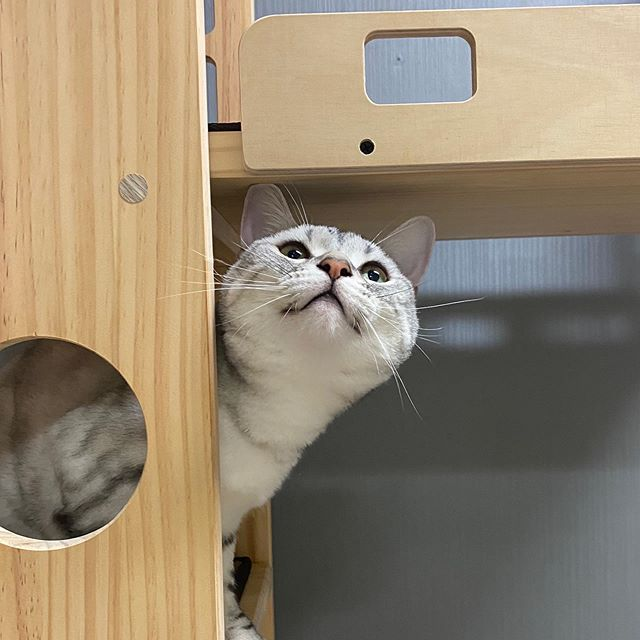cat: (218, 183, 439, 397)
